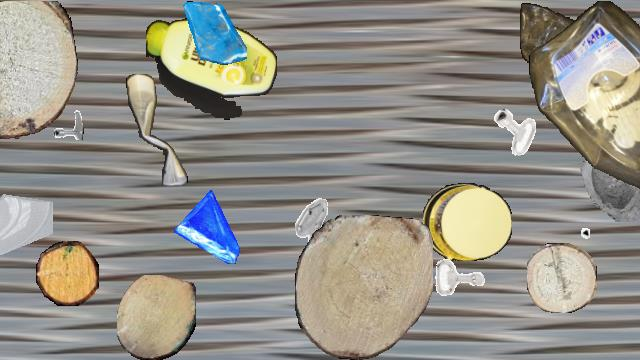glass: (565, 132, 640, 222), (174, 190, 248, 264), (0, 174, 52, 266), (183, 1, 247, 65)
metal: (429, 247, 491, 309), (281, 196, 341, 256), (540, 199, 590, 249), (491, 107, 539, 155), (42, 98, 84, 140), (637, 204, 640, 256)
plastic: (529, 1, 640, 213), (146, 18, 276, 120), (126, 74, 188, 186), (423, 183, 511, 261), (520, 1, 594, 71)
wood: (295, 215, 433, 359), (0, 1, 77, 139), (117, 275, 195, 359), (527, 243, 597, 313), (36, 241, 98, 305)
